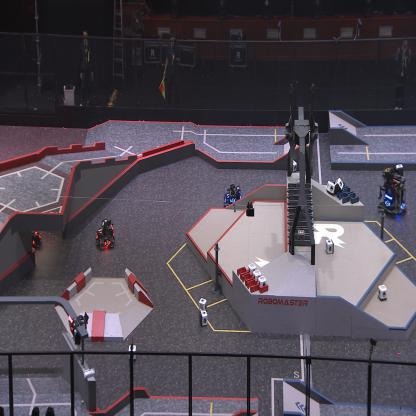car: (378, 166, 408, 219), (93, 217, 116, 250), (23, 218, 43, 249), (223, 182, 241, 211)
